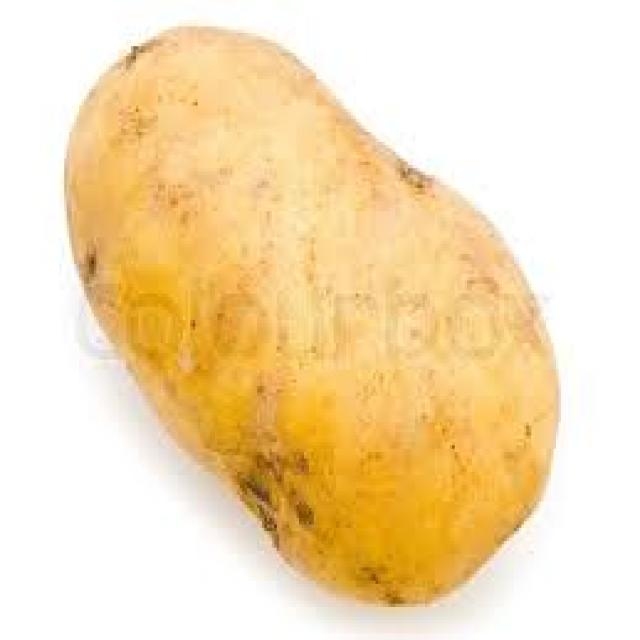organic waste: (62, 23, 561, 604)
